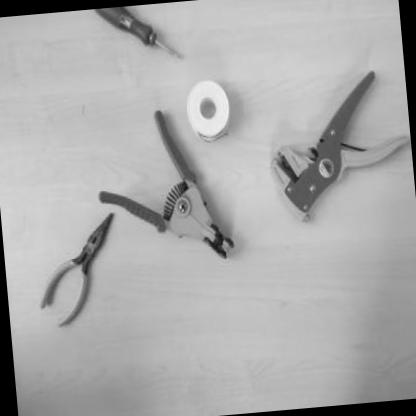Screwdriver: (88, 3, 184, 73)
